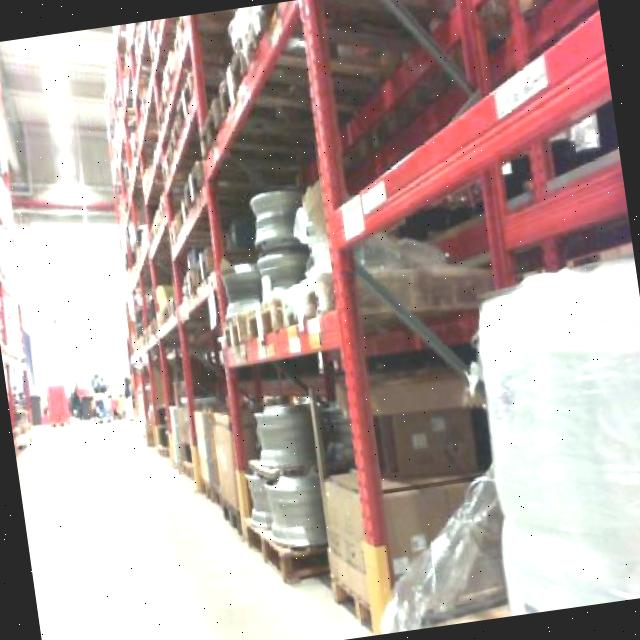pallet: (244, 510, 327, 589), (270, 264, 347, 332), (328, 571, 378, 634), (240, 294, 292, 346), (220, 310, 253, 354)
